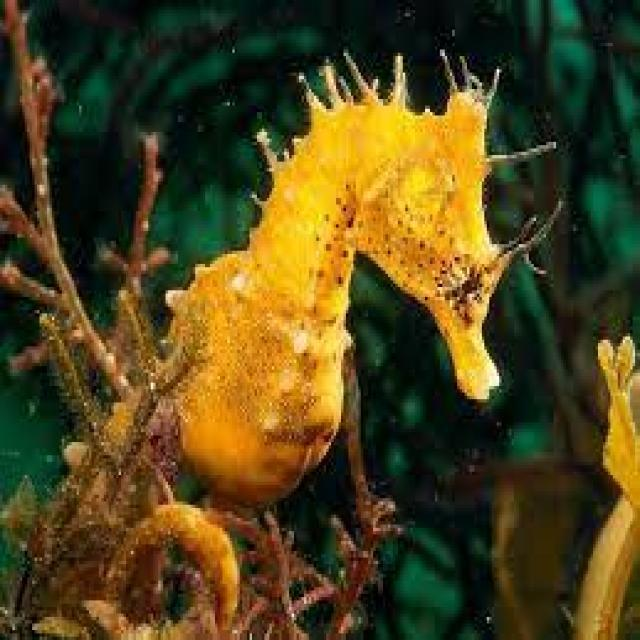SeaHorse: (151, 39, 551, 514)
